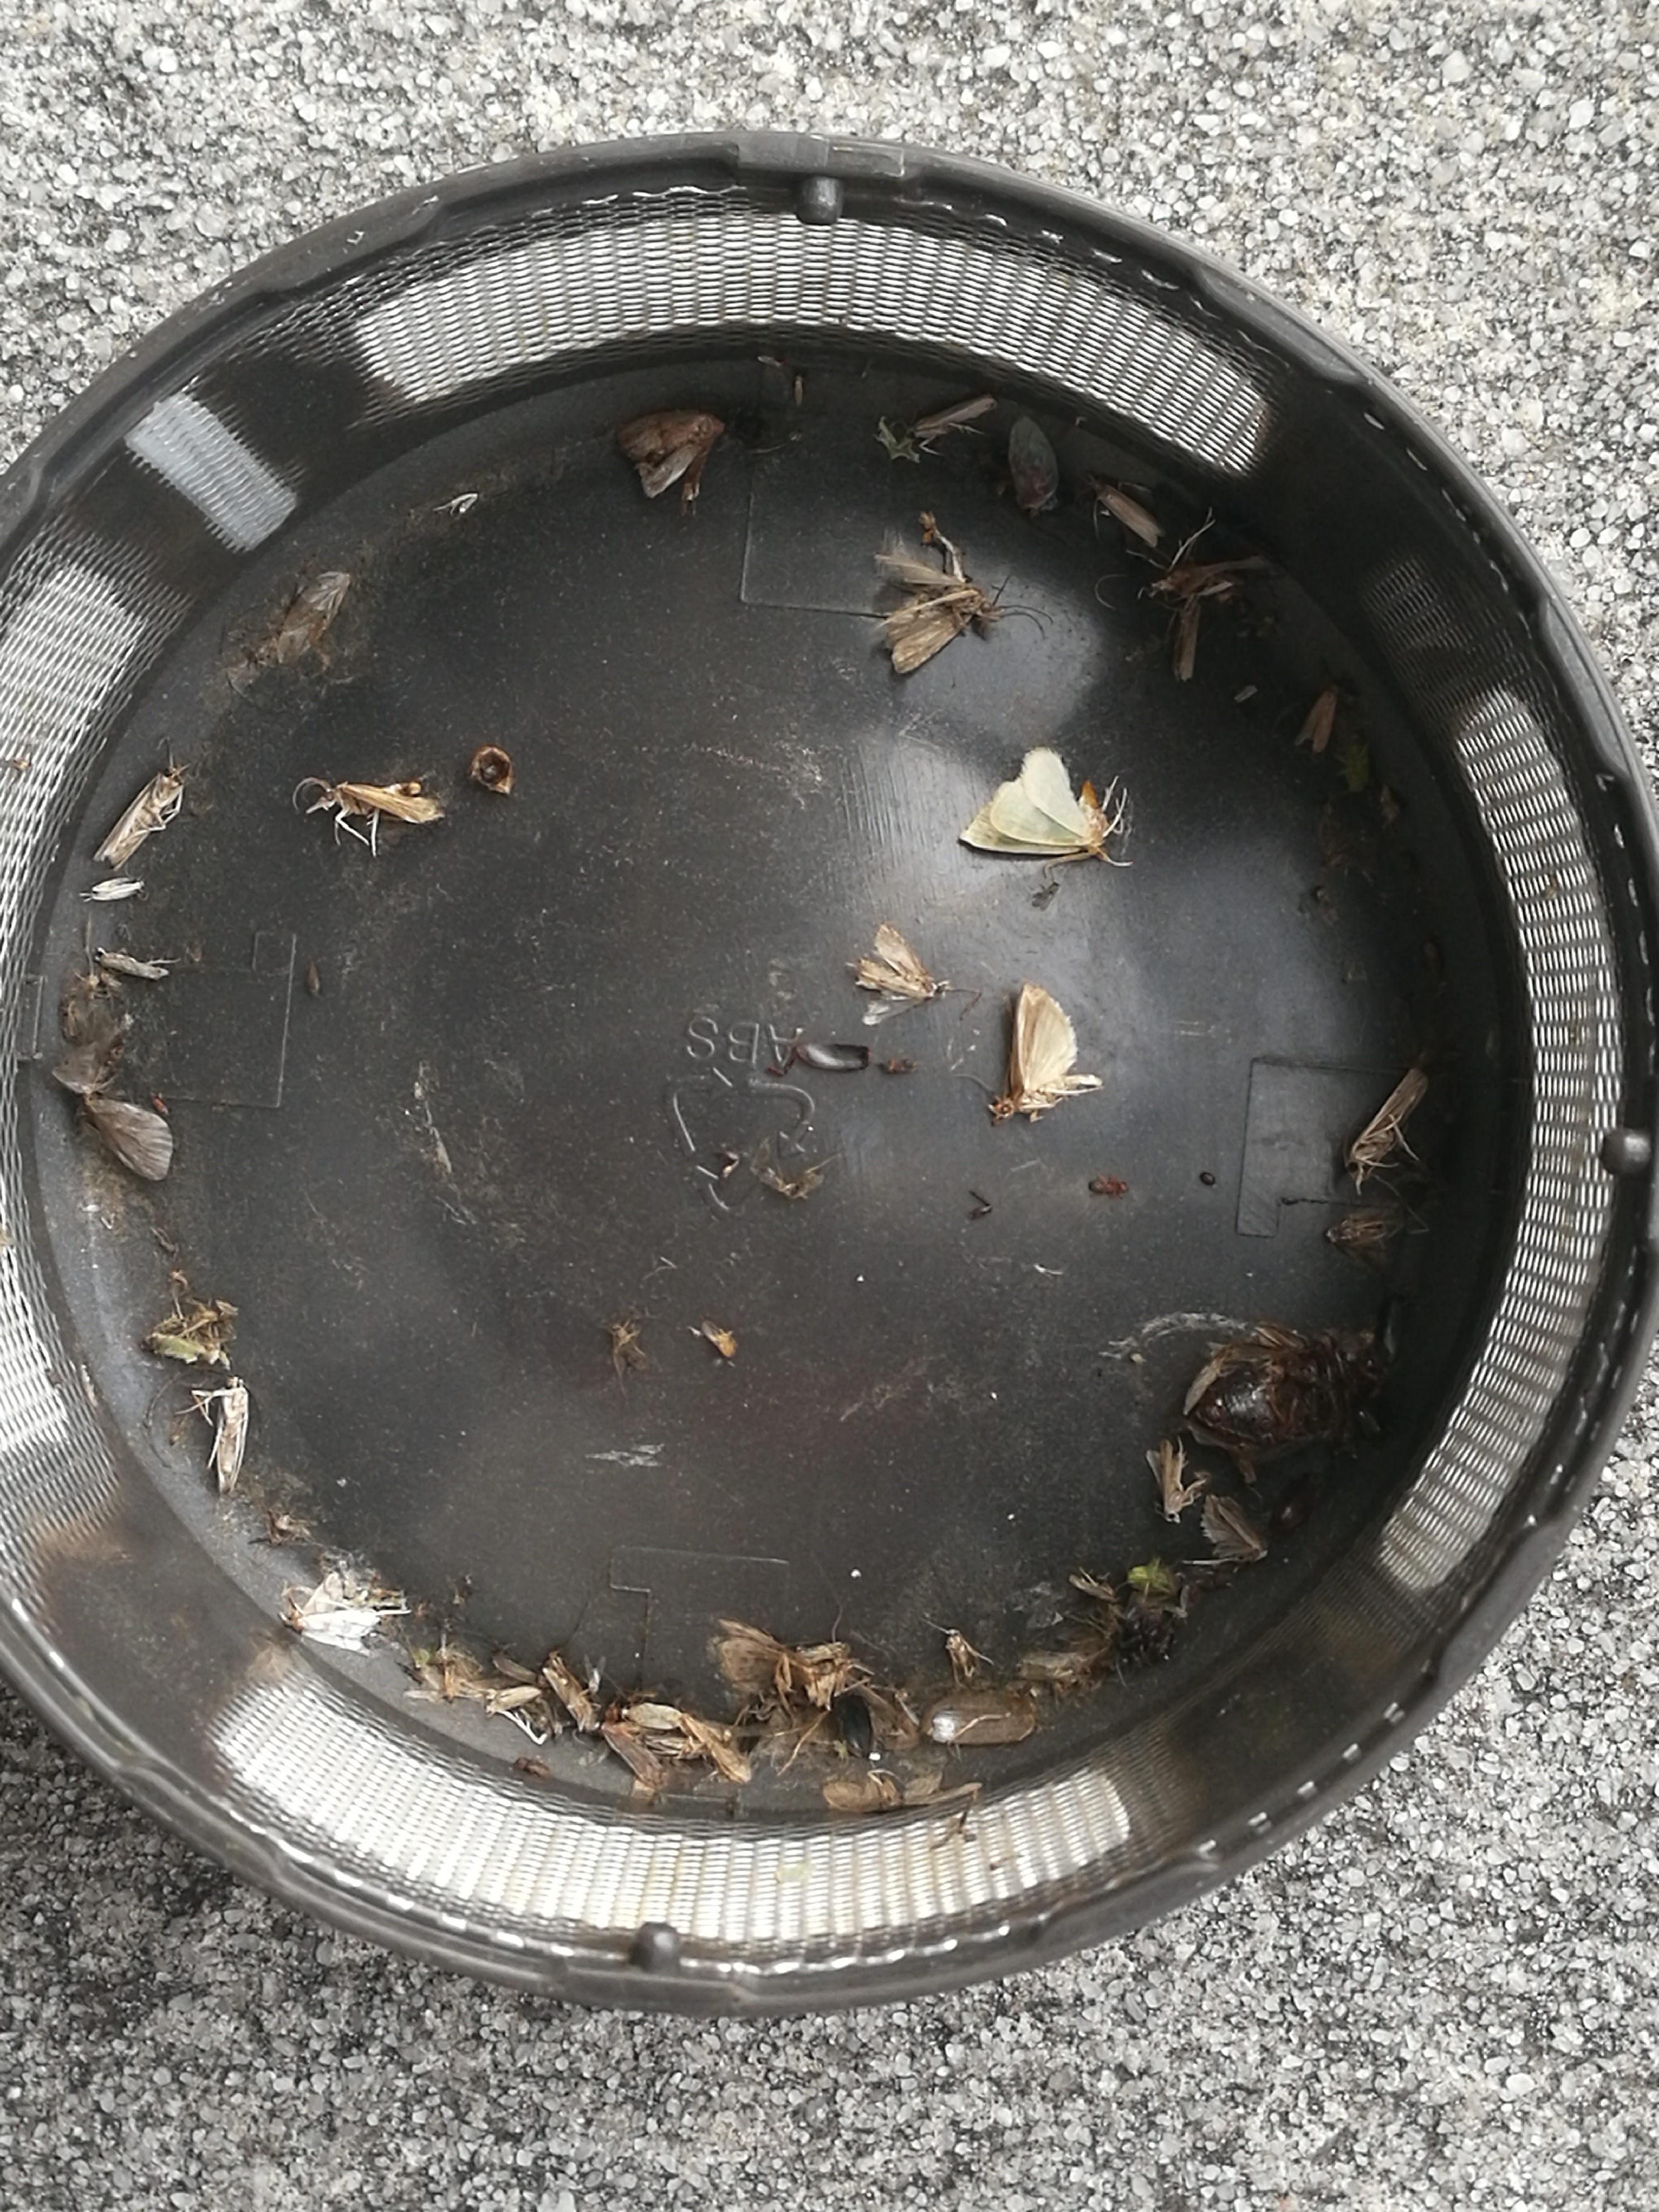beetle: (1194, 1346, 1356, 1449), (1112, 1613, 1176, 1669)
mosquito: (1345, 1068, 1429, 1183), (94, 766, 183, 869), (1082, 474, 1164, 545), (680, 1714, 751, 1785), (322, 782, 444, 824), (540, 1653, 599, 1731), (214, 1376, 249, 1489), (601, 1721, 660, 1785), (906, 399, 999, 439), (1145, 1439, 1183, 1522), (1175, 590, 1201, 683), (1326, 1214, 1401, 1244), (94, 948, 166, 977), (92, 878, 145, 900)
moth: (960, 749, 1101, 857), (990, 984, 1100, 1122), (875, 554, 999, 674), (619, 409, 725, 498), (856, 923, 943, 1024), (716, 1616, 819, 1695), (84, 1090, 173, 1181), (286, 1575, 378, 1660), (796, 1681, 913, 1747), (753, 1702, 835, 1757), (1202, 1494, 1267, 1561), (1293, 685, 1337, 754), (1114, 1595, 1159, 1649), (800, 1672, 838, 1707)
